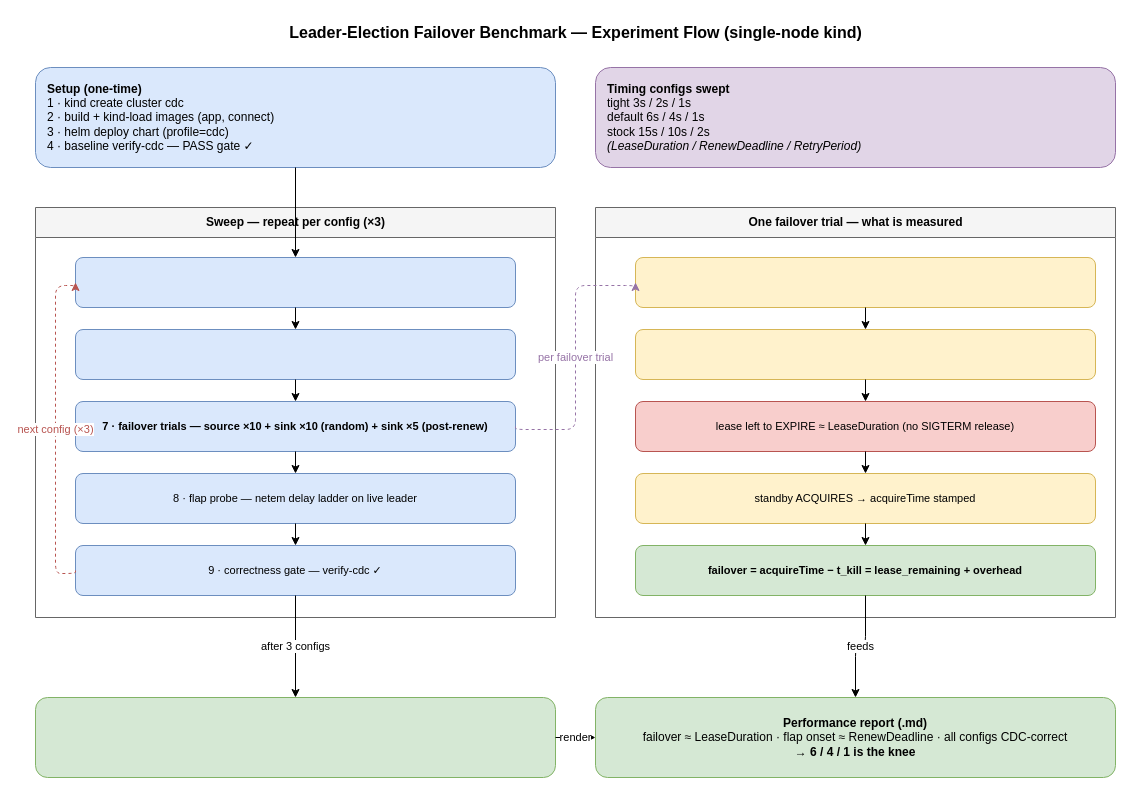
This 1133x795 diagram has some shape labels left out. Here are the shapes that lost their labels. From the top down, the centre of each, then its label:
At point 295,282: "5 · helm upgrade lease timings (both legs)".
At point 865,282: "read holder H_old + renewTime, leaseDuration".
At point 295,354: "6 · settle + 20s soak (election stabilizes)".
At point 865,354: "t_kill = now() · force-delete leader pod (--grace-period=0 --force)".
At point 295,737: "10 · le-report.py — percentiles + render".
